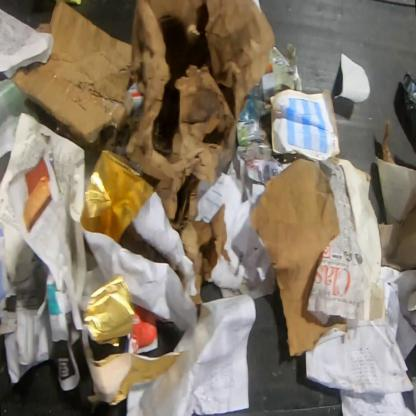cardboard: (125, 0, 277, 307), (248, 157, 348, 358), (10, 0, 133, 152), (375, 118, 415, 272)
rigid_plastic: (400, 71, 415, 136)
soft_plastic: (80, 151, 160, 244), (82, 273, 136, 347)
